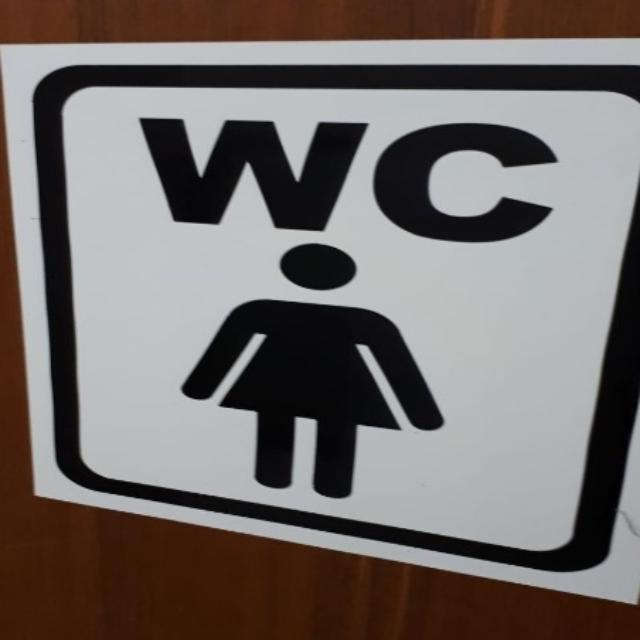wc nu: (4, 41, 639, 600)
